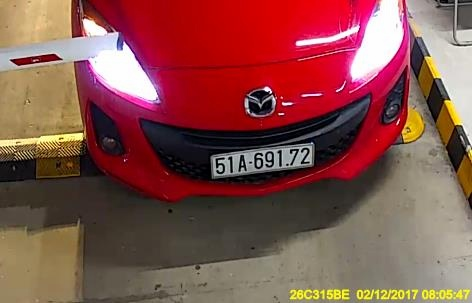plate: (209, 144, 318, 177)
